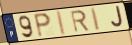9: (19, 15, 35, 39)
I: (90, 7, 102, 32), (56, 10, 67, 37)
J: (110, 5, 124, 28)
P: (33, 12, 53, 39)
R: (69, 10, 91, 34)
